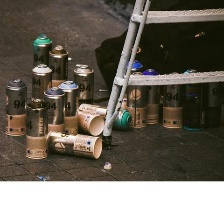aerosol_cans: (74, 98, 135, 135), (38, 129, 105, 162), (178, 65, 209, 135), (121, 66, 150, 132), (23, 95, 50, 161), (2, 76, 29, 138), (158, 70, 185, 132), (28, 30, 56, 89), (57, 78, 81, 142), (138, 63, 162, 127), (26, 61, 53, 117), (71, 59, 97, 116), (46, 42, 70, 98), (41, 85, 67, 136)
